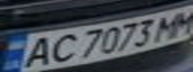0: (100, 24, 124, 55)
3: (130, 16, 160, 47)
7: (75, 26, 106, 60), (118, 19, 142, 52)
A: (12, 35, 57, 70)
C: (42, 32, 81, 65)
M: (148, 9, 190, 42), (166, 4, 193, 37)
